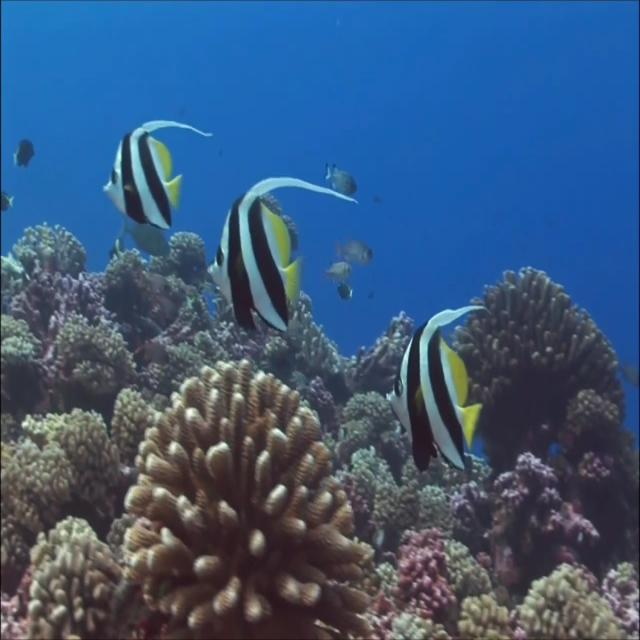Bannerfish: (208, 178, 358, 336), (391, 304, 488, 475), (105, 121, 211, 233)
